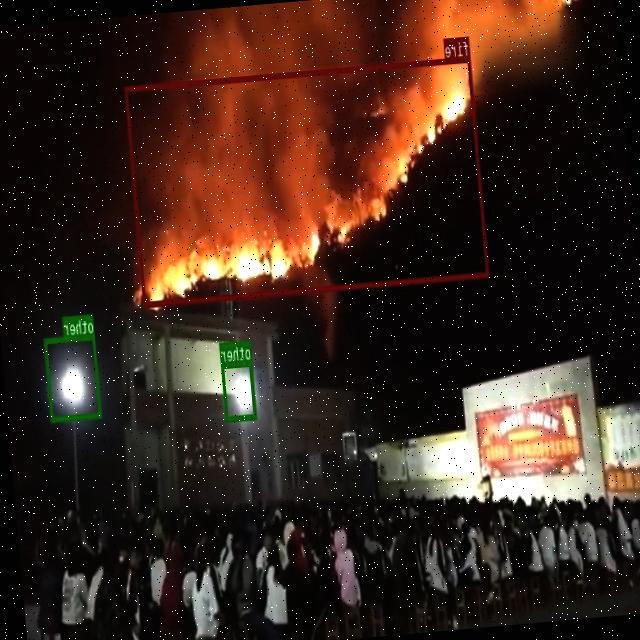fire: (124, 55, 490, 306)
